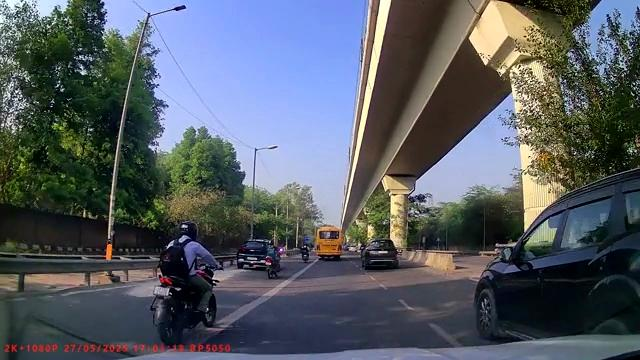motorcycle_with_helmet: (149, 219, 218, 344)
